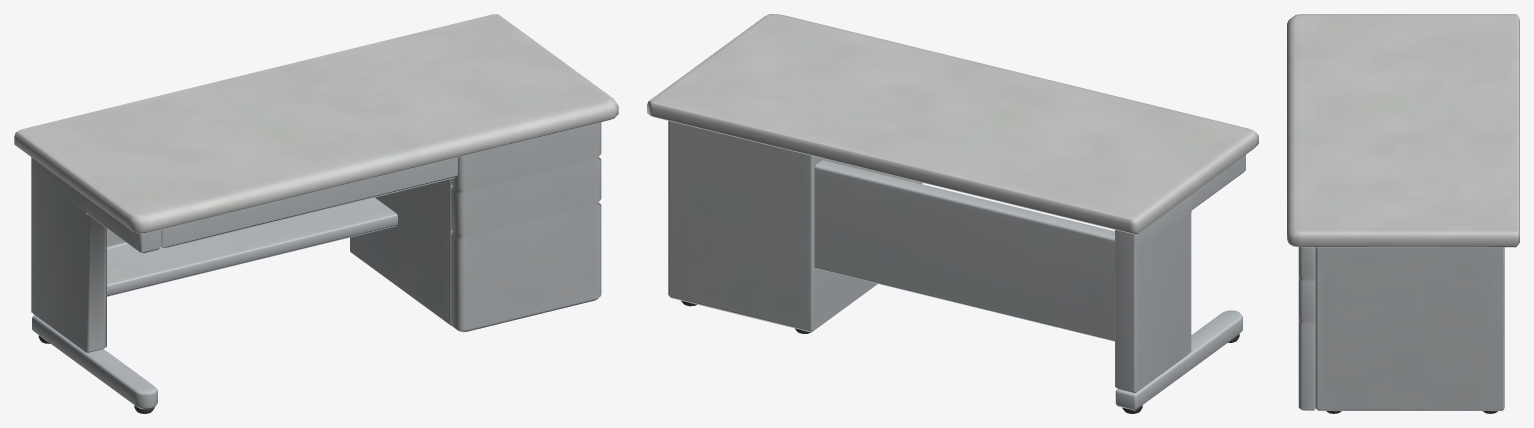
3 renders of one model, left to right at view 1: azimuth 30°, elevation 25°; view 2: azimuth 150°, elevation 25°; view 3: azimuth 270°, elevation 25°, orthographic. The views are drawn at different scales.
Bounding box in the file's own units: 19.46 × 7.8 × 8.65.
1 material, 1 textured.
